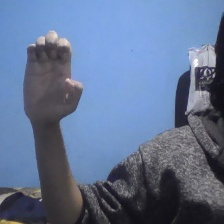E: (18, 29, 85, 126)
